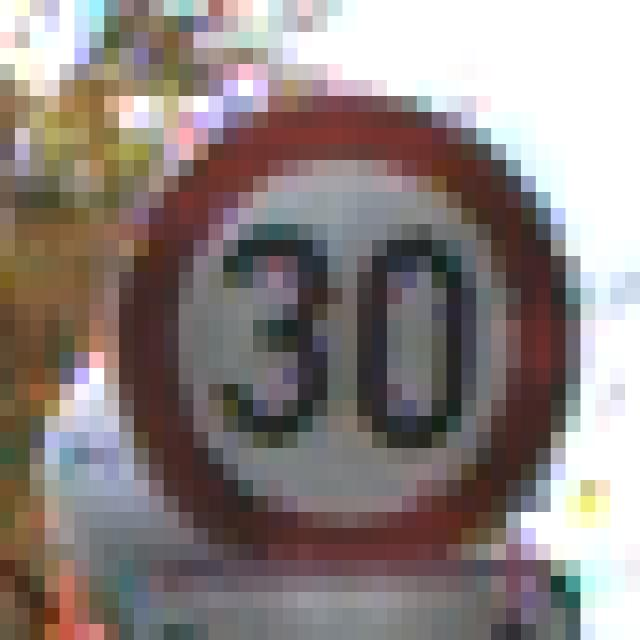Speed Limit -30-: (82, 72, 558, 552)
